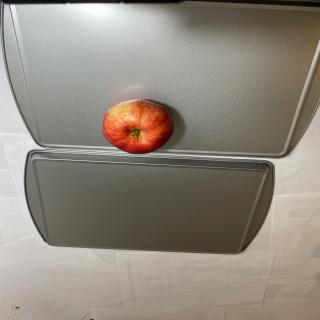Apple: (102, 99, 174, 154)
